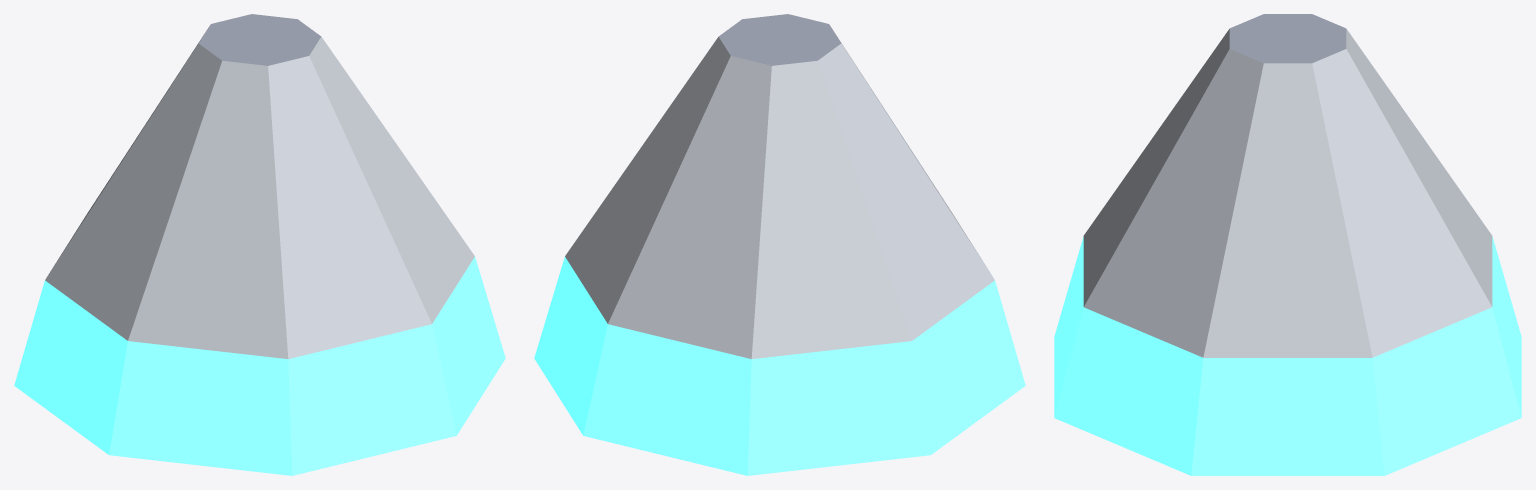
File: rocket_topA.glb
3 views of the same model, side by side, from view 1: azimuth 30°, elevation 25°; view 2: azimuth 150°, elevation 25°; view 3: azimuth 270°, elevation 25° (orthographic).
Parts seen in each view (by area): view 1: rocket_topA; view 2: rocket_topA; view 3: rocket_topA.
Part boxes in pixels (<box>): rocket_topA: <box>14,14,505,475</box>; rocket_topA: <box>534,14,1025,475</box>; rocket_topA: <box>1054,14,1521,475</box>.
Size of the model in its own units: 1 by 0.8 by 1.
